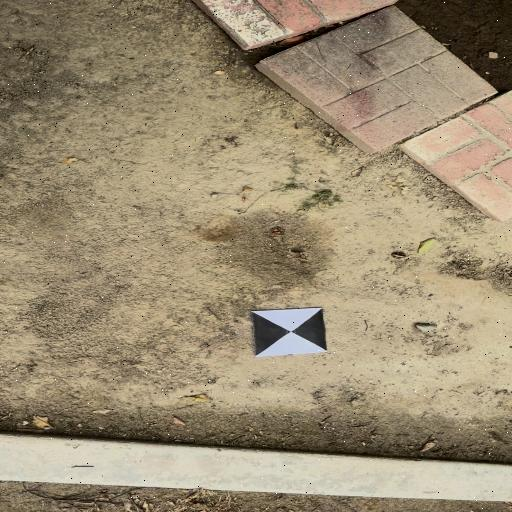target: (252, 308, 328, 357)
